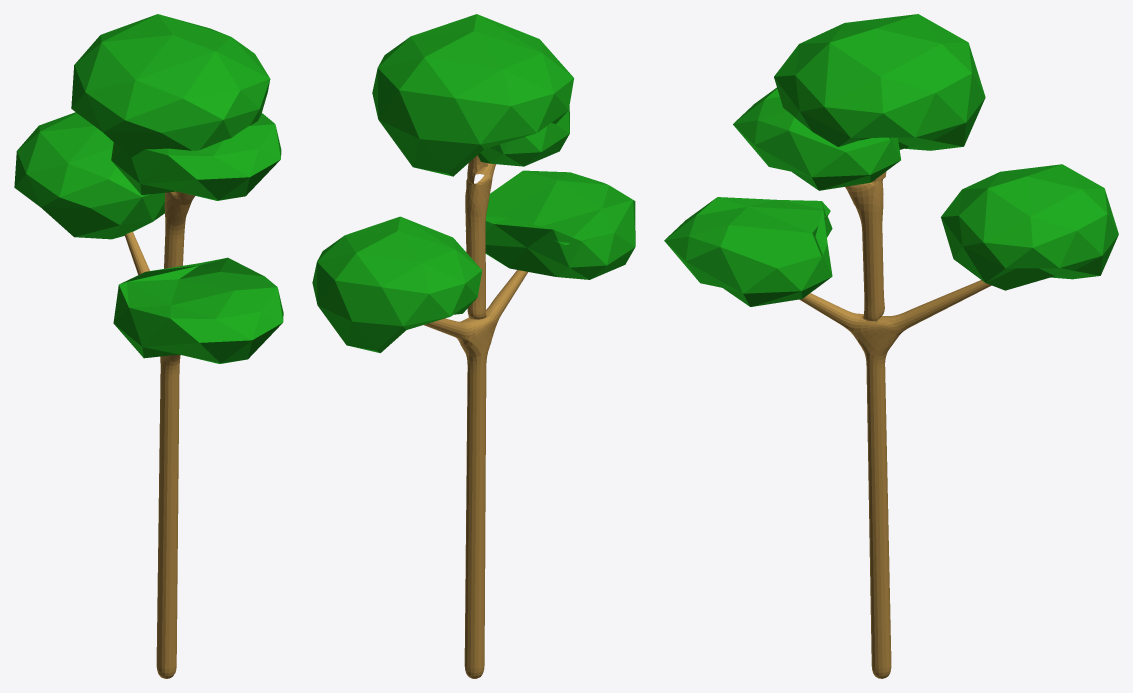
File: tree4.gltf
3 renders of one model, left to right at view 1: azimuth 30°, elevation 25°; view 2: azimuth 150°, elevation 25°; view 3: azimuth 270°, elevation 25°, orthographic.
Visible parts, largest first — view 1: Icosphere.001, Icosphere.003, Icosphere.002, Cube, Icosphere; view 2: Icosphere.001, Icosphere.002, Icosphere.003, Cube, Icosphere; view 3: Icosphere.001, Icosphere.002, Icosphere.003, Cube, Icosphere.
Boxes of the visible parts, left/top/right/bottom form: Icosphere.001: left=71, top=14, right=270, bottom=157; Icosphere.003: left=113, top=257, right=283, bottom=363; Icosphere.002: left=14, top=112, right=164, bottom=239; Cube: left=124, top=191, right=194, bottom=678; Icosphere: left=111, top=113, right=281, bottom=200; Icosphere.001: left=372, top=14, right=573, bottom=176; Icosphere.002: left=312, top=216, right=482, bottom=353; Icosphere.003: left=465, top=170, right=635, bottom=279; Cube: left=424, top=155, right=527, bottom=678; Icosphere: left=477, top=106, right=569, bottom=166; Icosphere.001: left=774, top=14, right=985, bottom=150; Icosphere.002: left=941, top=164, right=1118, bottom=290; Icosphere.003: left=664, top=197, right=832, bottom=306; Cube: left=799, top=171, right=991, bottom=678; Icosphere: left=733, top=87, right=900, bottom=190.
Bounding box in the file's own units: 2.49 × 8.41 × 5.32.
